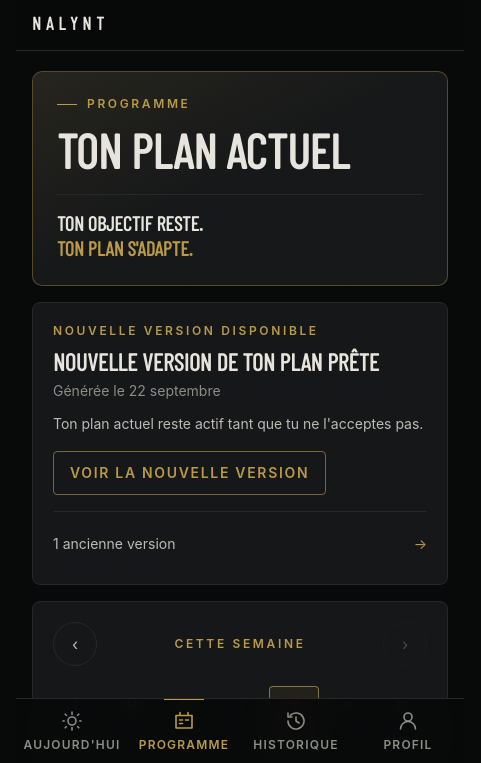
it: TrainingPlanPreviewPage — acceptance (V0.5_050, UX-06) › accepted plan with pending drafts: 'Nouvelle version de ton plan prête', opened on demand, older ones folded
This screenshot has width=481, height=763.
Expected: the heading "Nouvelle version de ton plan prête" is shown, [53,347,427,377]
Expected: the text "Ton plan actuel reste actif tant que tu ne l'acceptes pas." is shown, [53,413,427,435]
Step 1. Click the button "Voir la nouvelle version" → (190, 473), box [53,451,326,495]
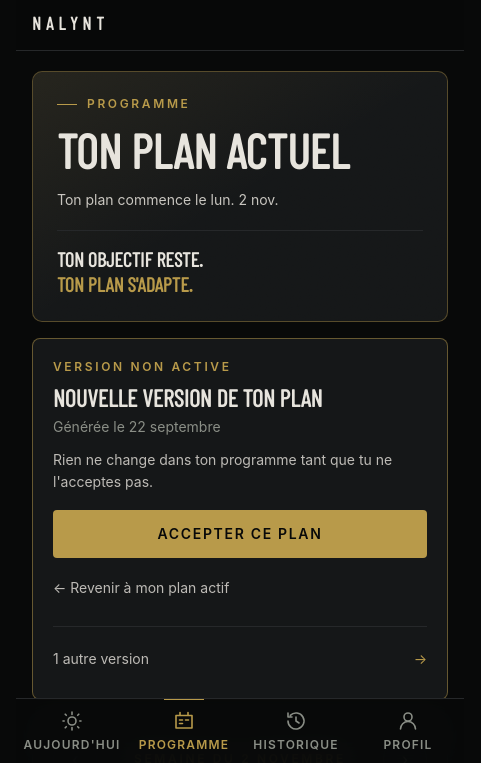
Expected: the text "Version non active" is shown, [53,359,232,374]
